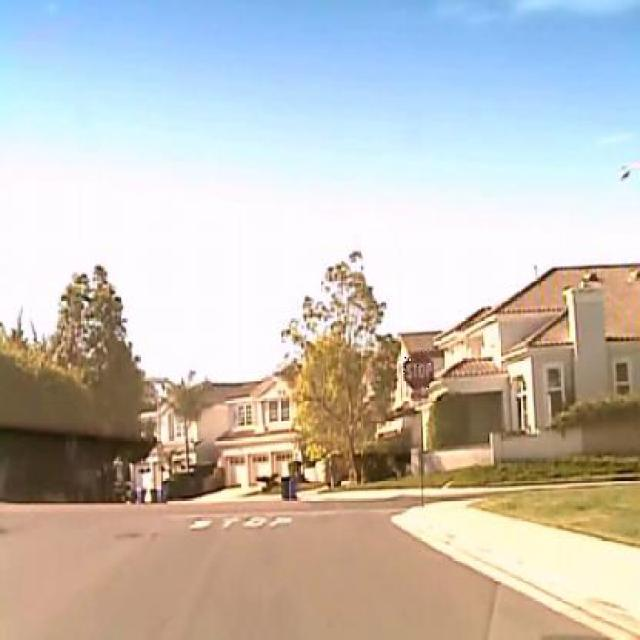stop: (403, 349, 434, 392)
